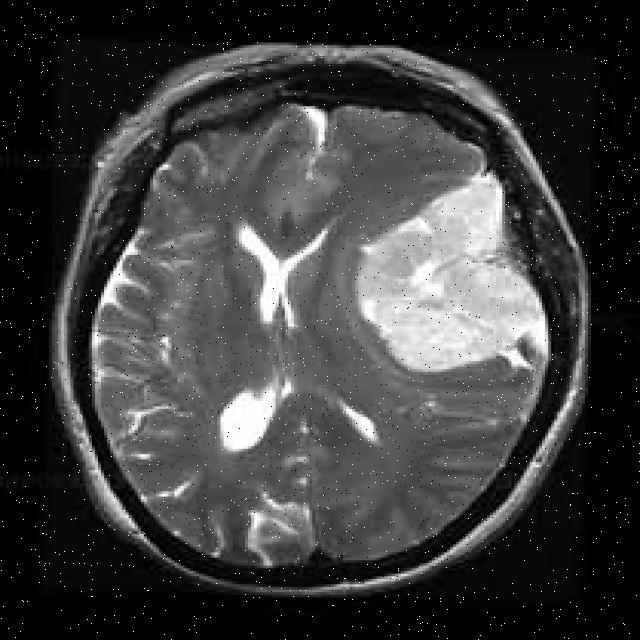Meningioma: (358, 173, 540, 371)
